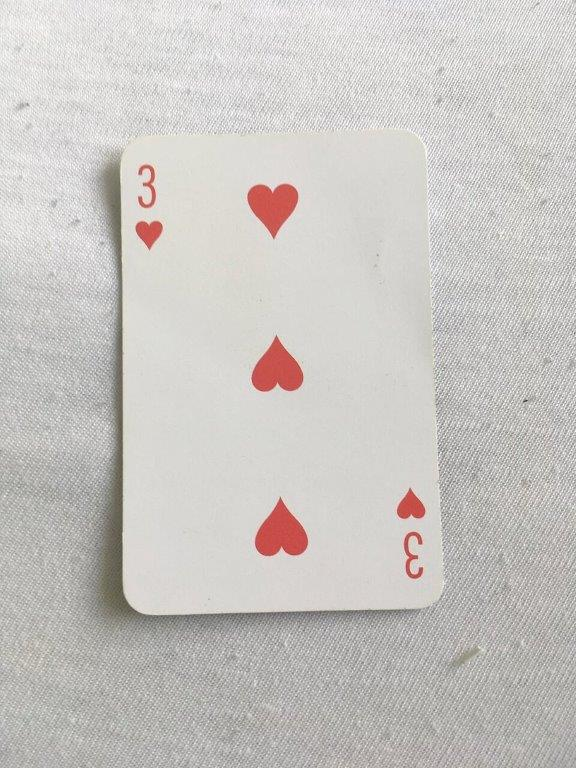3H: (112, 126, 449, 619)
